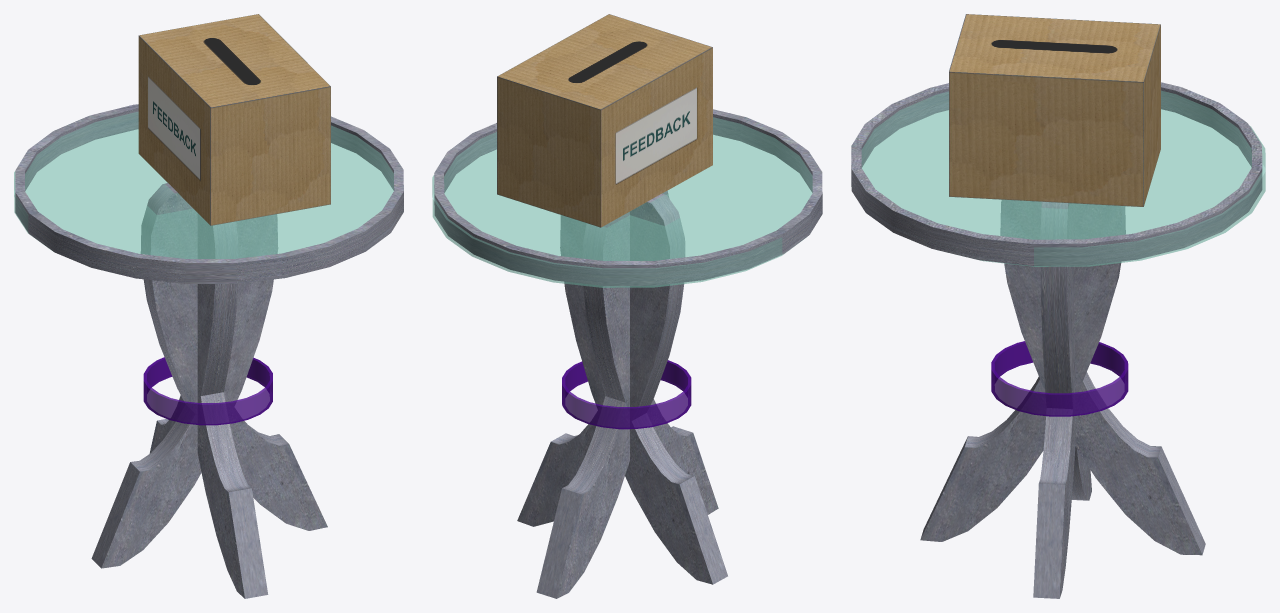
File: Suggestion Box with Course Feedback Survey_161-133-023__27e2696b-6ee3-407d-8099-0cd4d8a9208a.dae
3 renders of one model, left to right at view 1: azimuth 30°, elevation 25°; view 2: azimuth 150°, elevation 25°; view 3: azimuth 270°, elevation 25°, orthographic. The views are drawn at different scales.
Visible parts, largest first — view 1: Primitive (×6), Suggestion Box with Course Feedback Survey, HighTopGlassTable; view 2: Primitive (×6), Suggestion Box with Course Feedback Survey, HighTopGlassTable; view 3: Primitive (×6), Suggestion Box with Course Feedback Survey, HighTopGlassTable.
Boxes of the visible parts, box(x1,y1,x2,y2) form: Primitive (×6): box(15, 104, 403, 598); Suggestion Box with Course Feedback Survey: box(138, 14, 330, 225); HighTopGlassTable: box(14, 112, 393, 258); Primitive (×6): box(434, 109, 822, 598); Suggestion Box with Course Feedback Survey: box(497, 14, 712, 227); HighTopGlassTable: box(432, 117, 812, 287); Primitive (×6): box(851, 82, 1262, 598); Suggestion Box with Course Feedback Survey: box(949, 14, 1160, 206); HighTopGlassTable: box(862, 91, 1265, 266).
Size of the model in its own units: 1.49 by 1.5 by 2.03.
